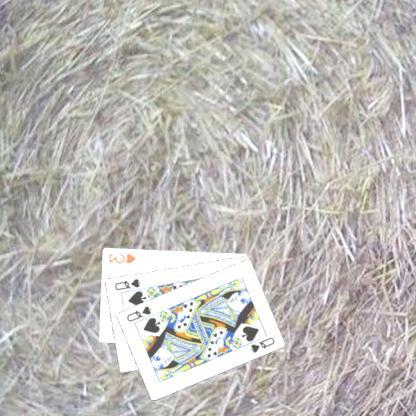3H: (108, 250, 139, 264)
QS: (125, 303, 155, 323), (249, 334, 278, 354), (113, 275, 144, 292)
